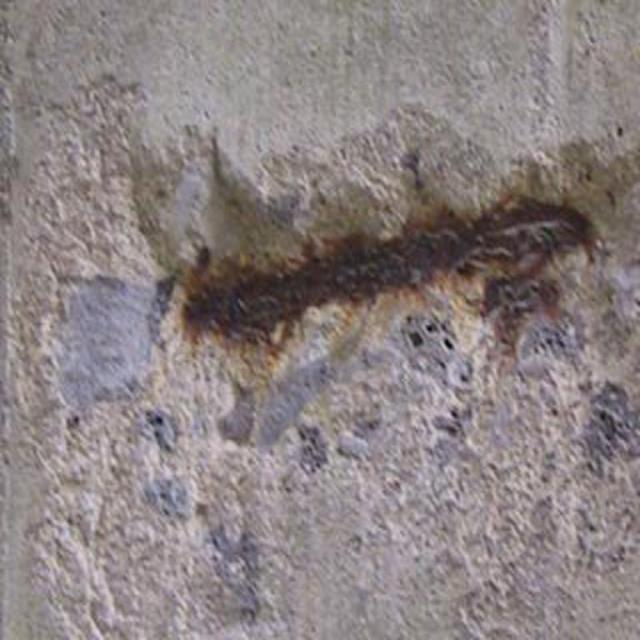Rebar: (121, 152, 637, 420)
